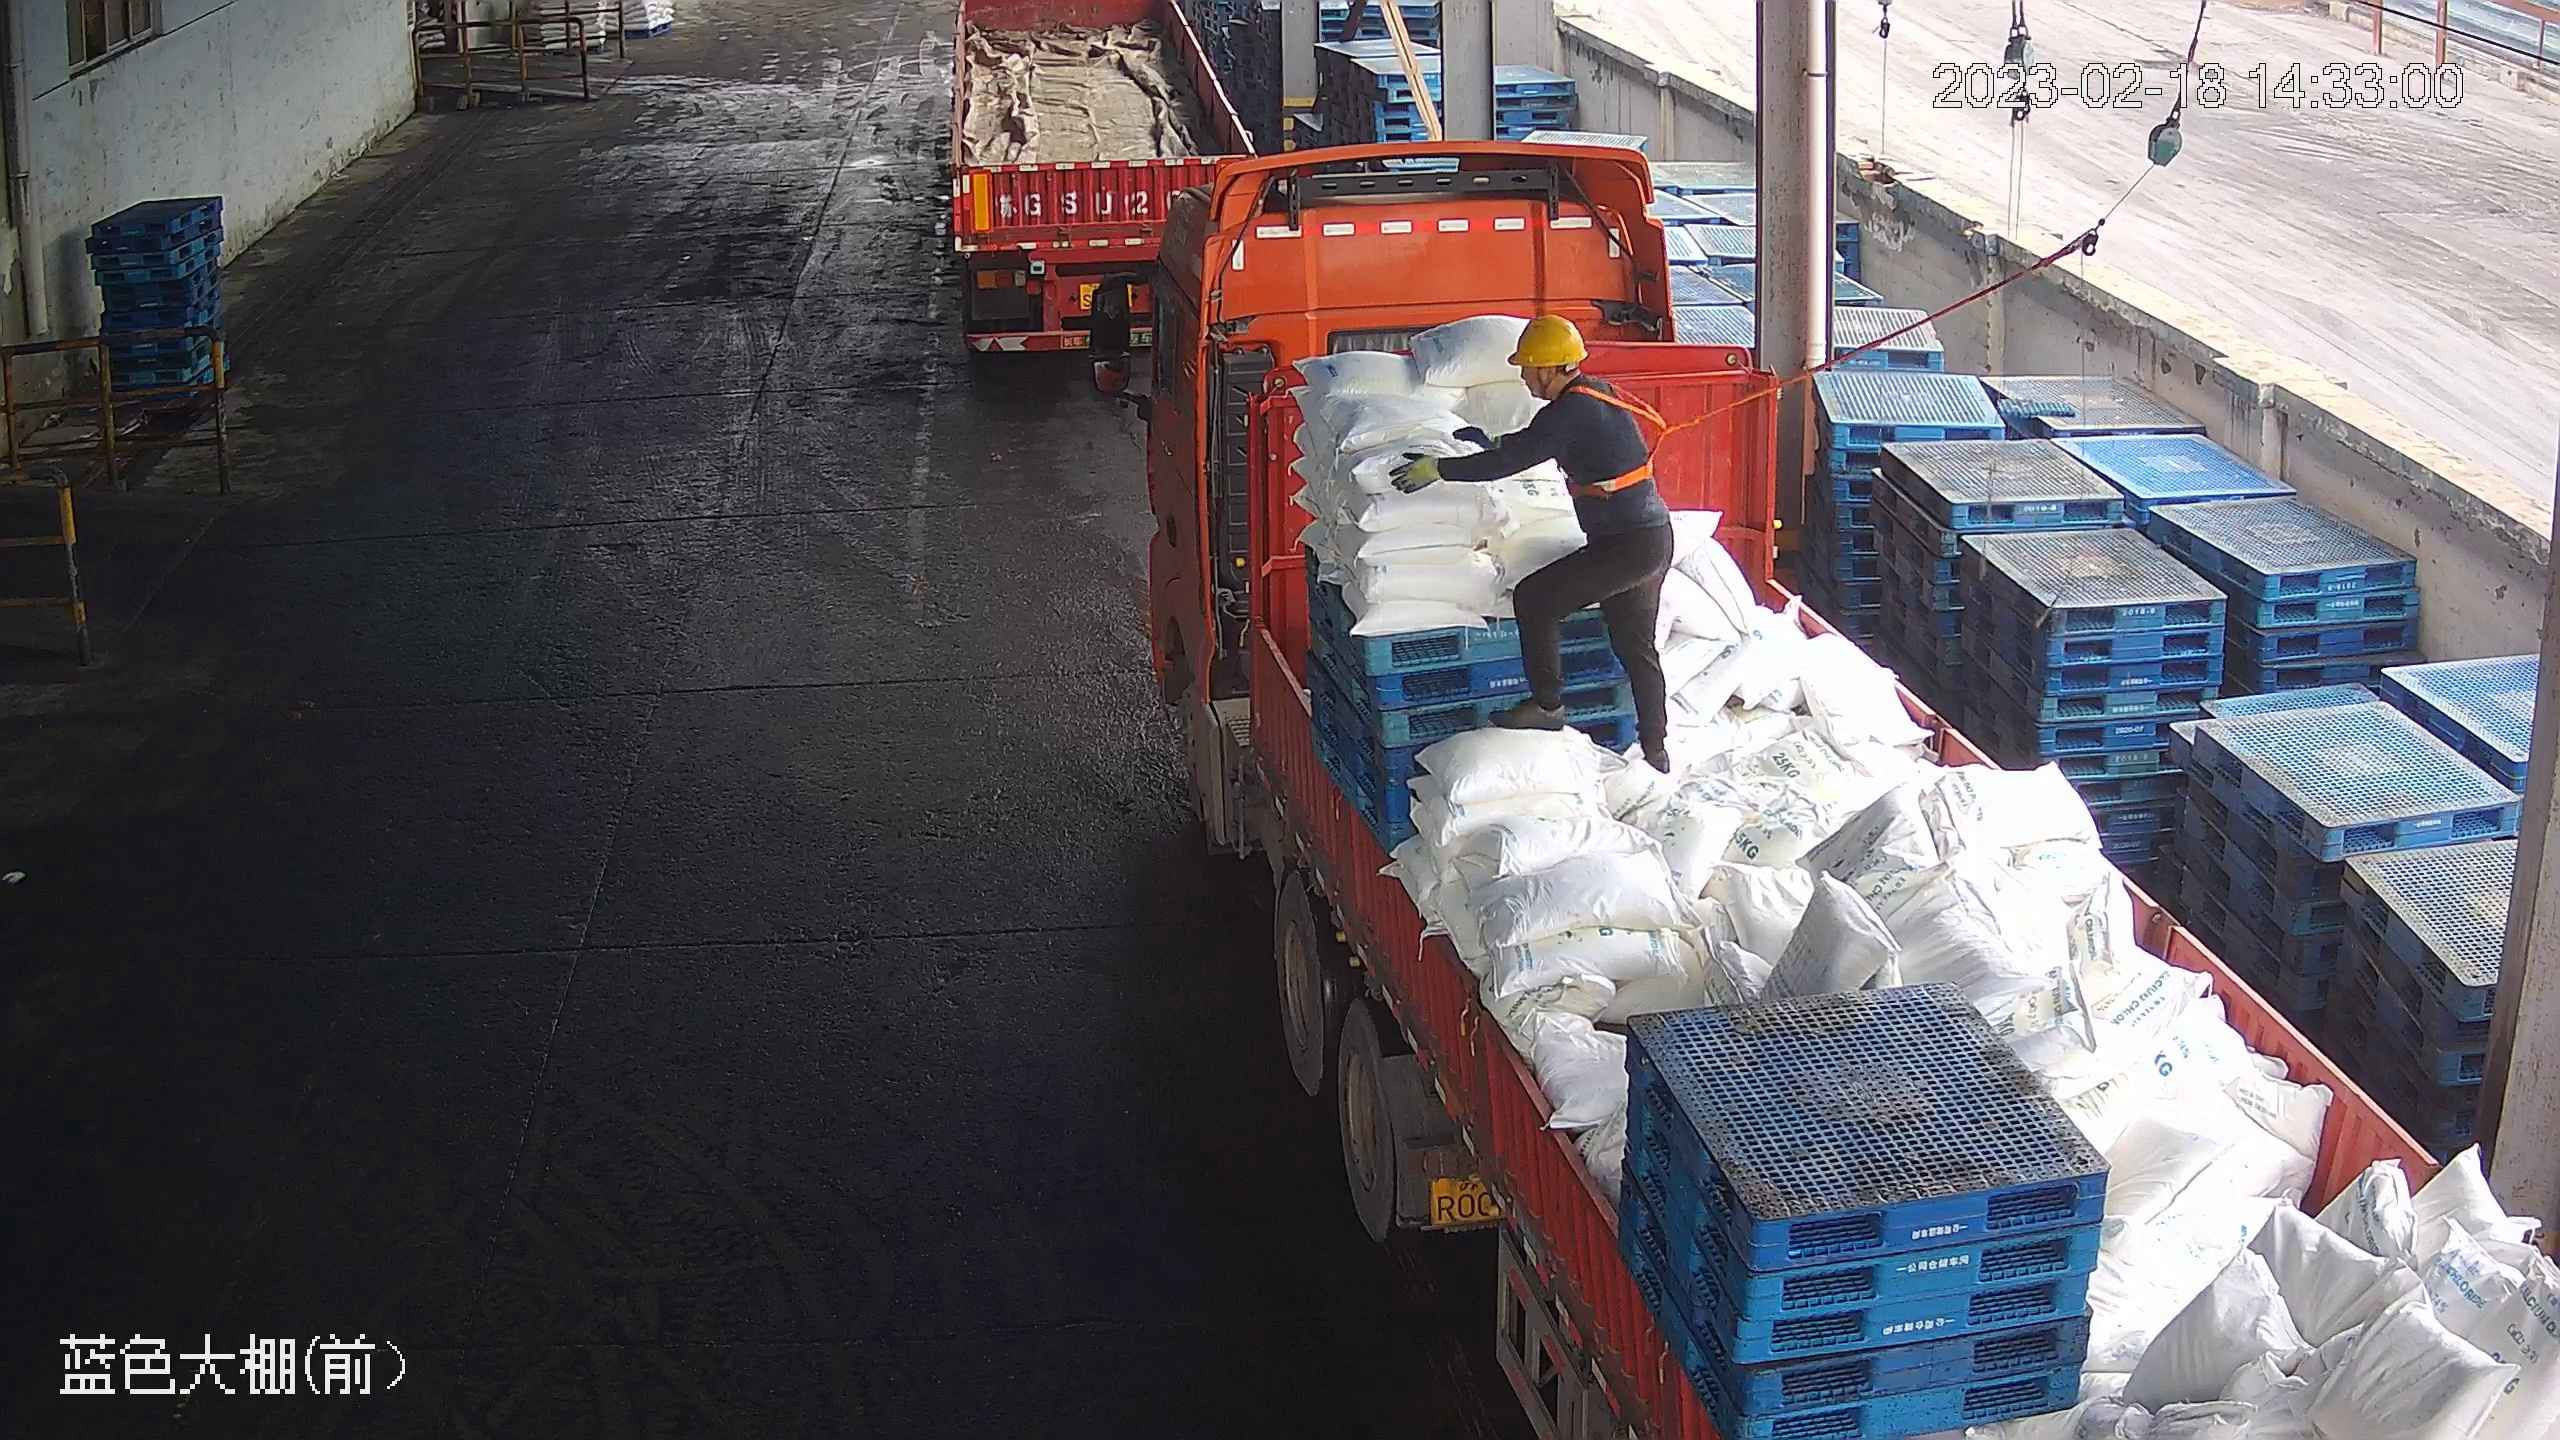belt: (1564, 367, 1685, 502)
head: (1500, 315, 1646, 479)
helmet: (1507, 315, 1588, 369)
people: (1389, 317, 1682, 770)
truck: (1071, 134, 2555, 1438), (941, 5, 1263, 381)
